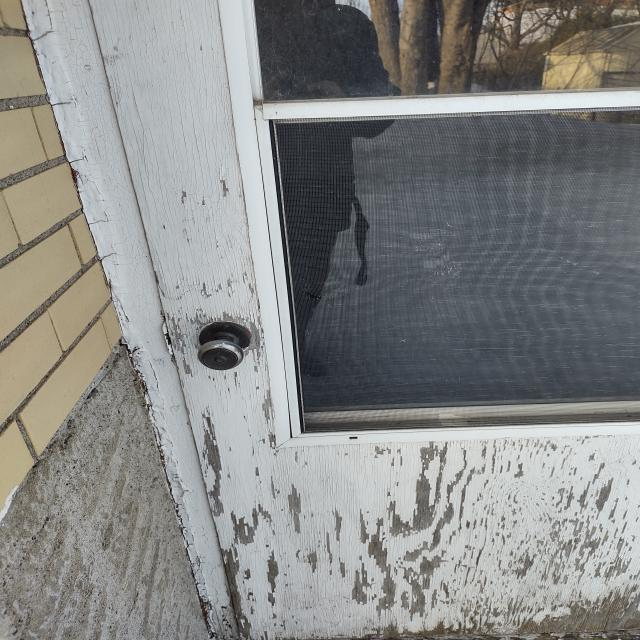door-knob: (197, 321, 251, 370)
